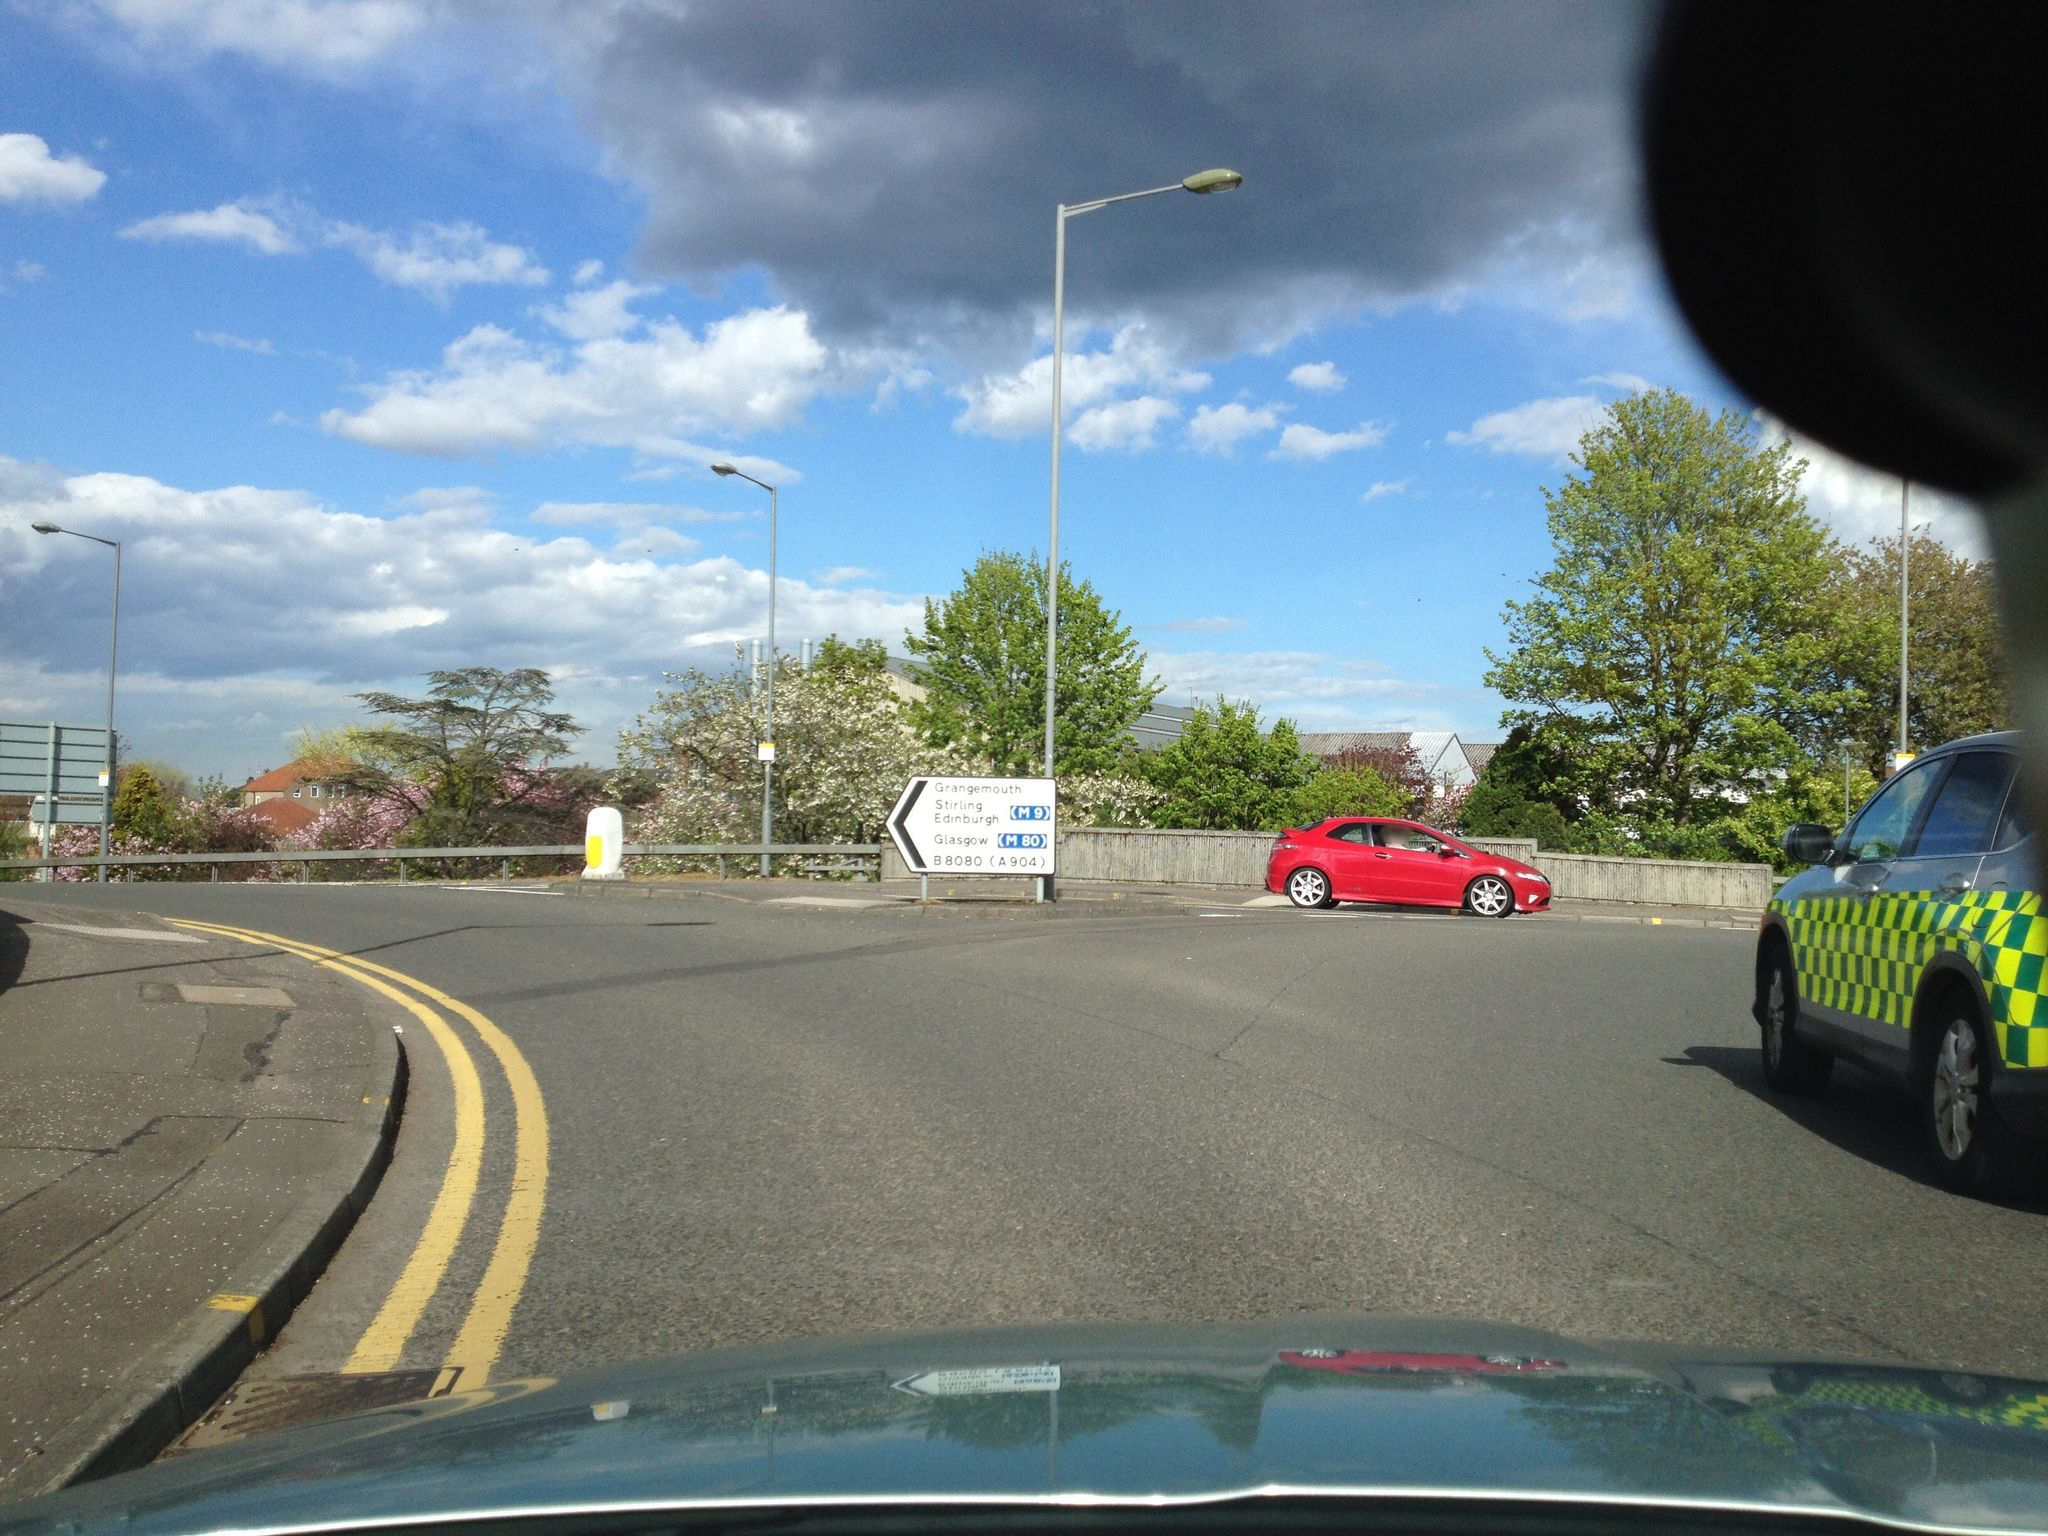car: (1750, 724, 2048, 1204), (1277, 779, 1551, 933)
